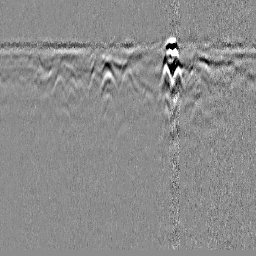cavity: (119, 65, 138, 92)
